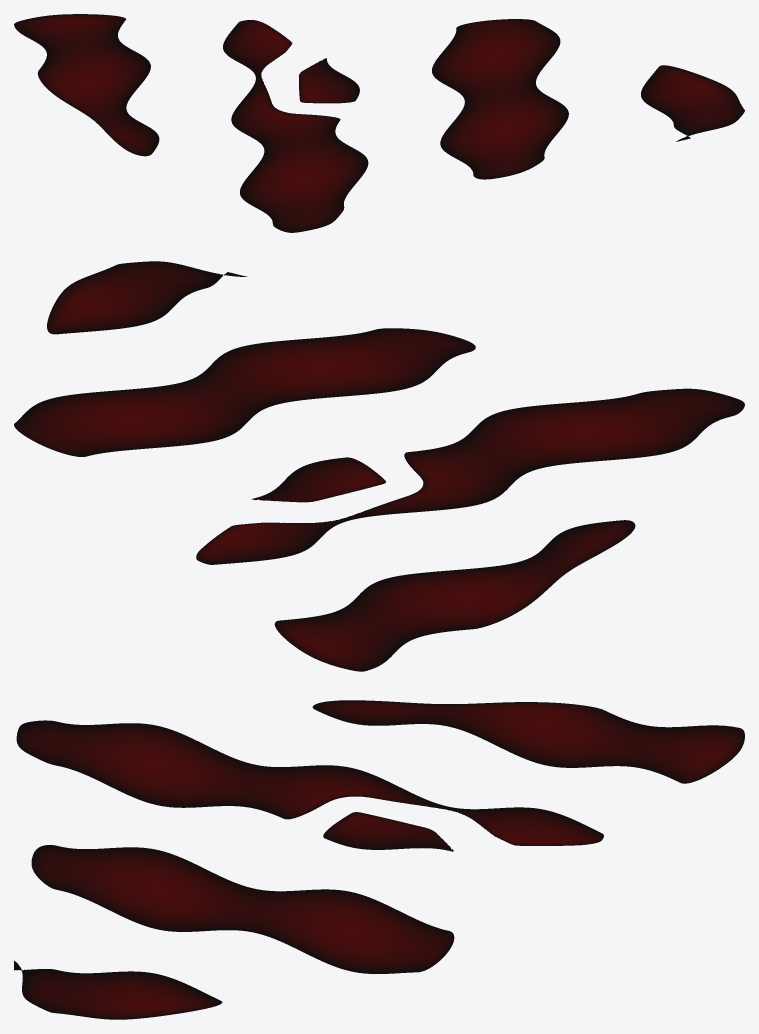
Rendered from swamp_water_D16.glb.
3 views of the same model, one above another, from view 1: azimuth 30°, elevation 25°; view 2: azimuth 150°, elevation 25°; view 3: azimuth 270°, elevation 25° (orthographic). The views are drawn at different scales.
Visible parts, largest first — view 1: SWAMP_WATER_D16; view 2: SWAMP_WATER_D16; view 3: SWAMP_WATER_D16.
Boxes of the visible parts, left/top/right/bottom form: SWAMP_WATER_D16: left=14, top=14, right=744, bottom=232; SWAMP_WATER_D16: left=14, top=261, right=744, bottom=671; SWAMP_WATER_D16: left=14, top=700, right=744, bottom=1019.
Size of the model in its own units: 437 by 0 by 423.
